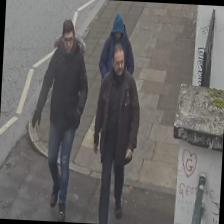person: (26, 17, 92, 221), (88, 40, 143, 224), (92, 12, 136, 172)
